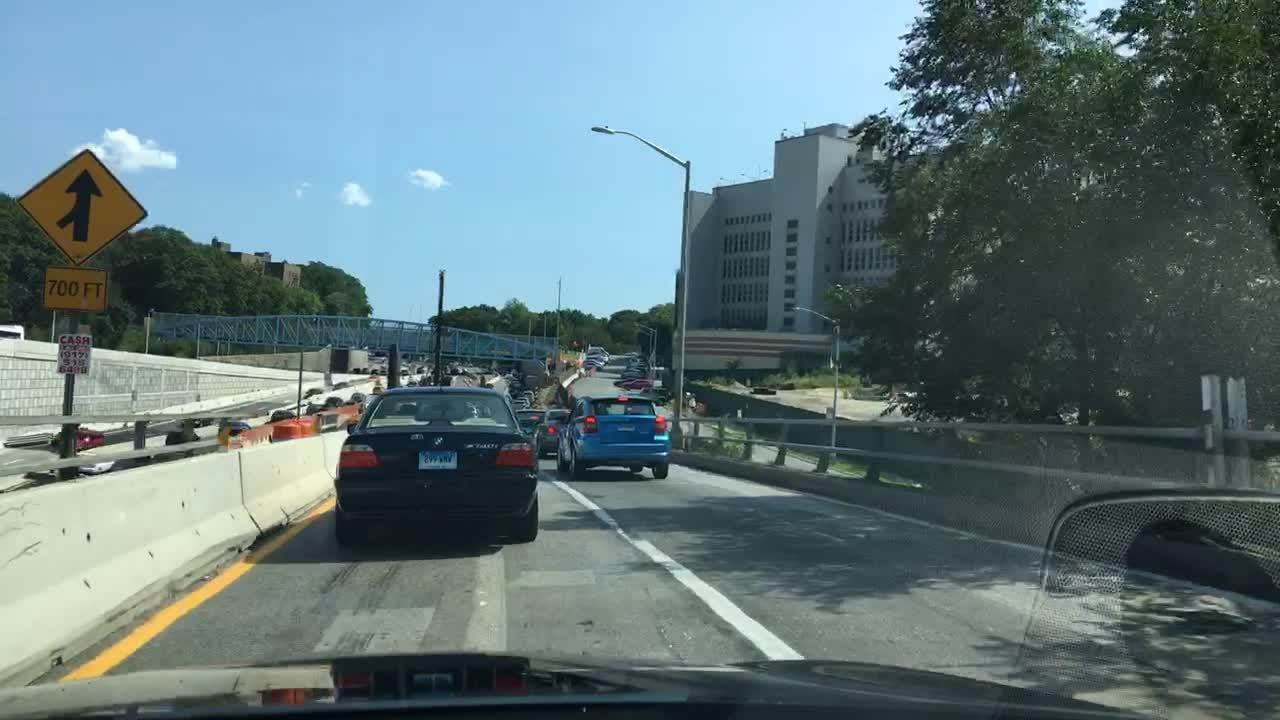bmw: (430, 433, 446, 451)
